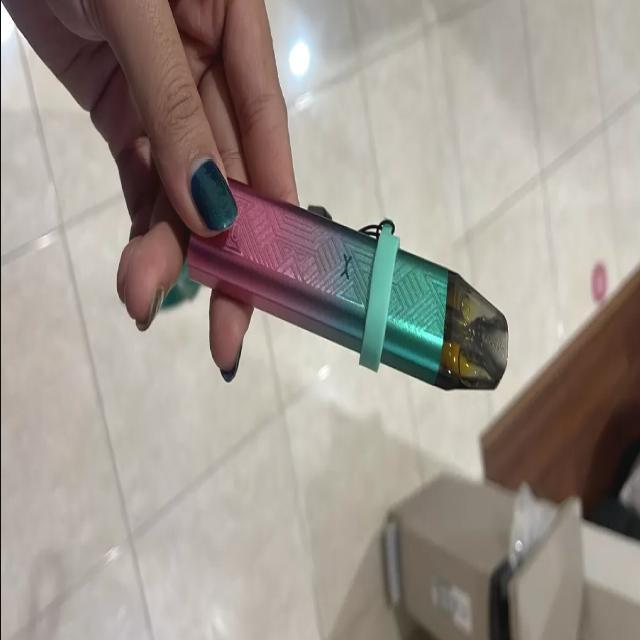Hazard: (182, 174, 510, 392)
